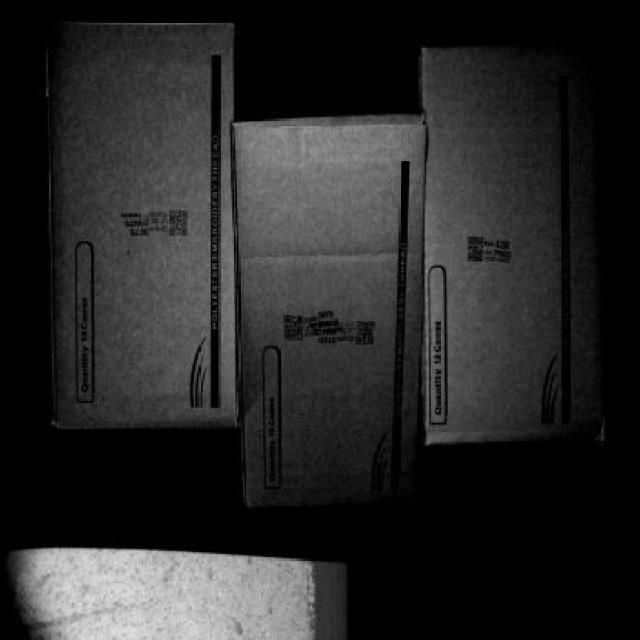cardboxes: (44, 17, 236, 429), (424, 43, 611, 435), (244, 128, 425, 506)
